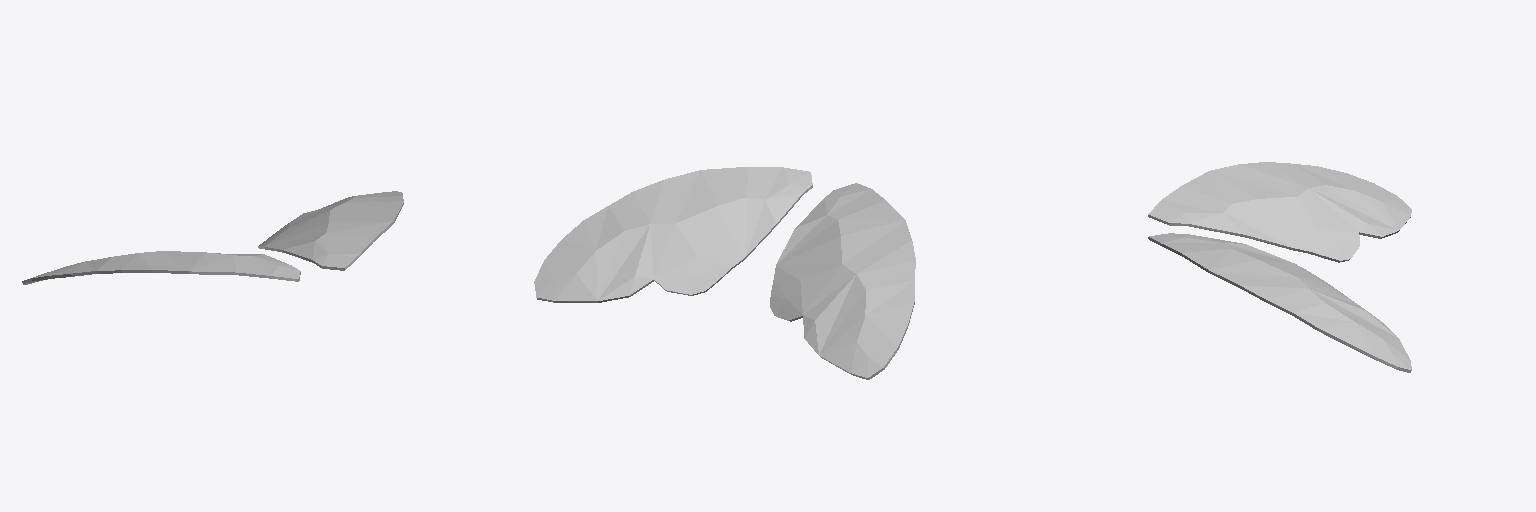
File: flywing.obj
3 views of the same model, side by side, from view 1: azimuth 30°, elevation 25°; view 2: azimuth 150°, elevation 25°; view 3: azimuth 270°, elevation 25° (orthographic).
Parts seen in each view (by area): view 1: fly_wing.004; view 2: fly_wing.004; view 3: fly_wing.004.
Boxes of the visible parts, box(x1,y1,x2,y2) form: fly_wing.004: box(22, 191, 403, 284); fly_wing.004: box(534, 167, 915, 379); fly_wing.004: box(1148, 162, 1411, 372).
Bounding box in the file's own units: 0.0055 × 0.0011 × 0.0035.